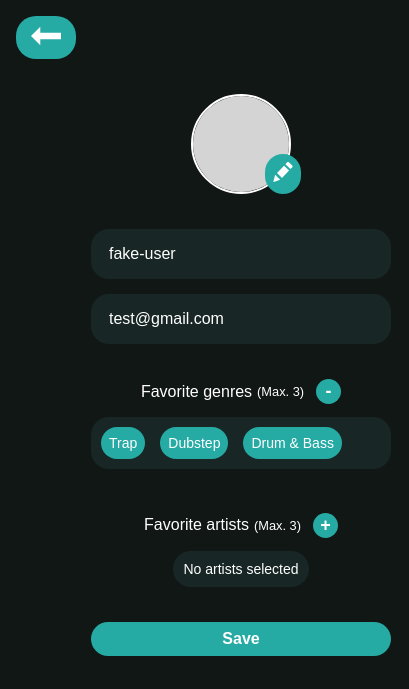
Test case: EditProfileComponent › Affichage de la page d'édition du profil › Saisie dans le formulaire › devrait afficher une erreur lors de la saisie  dans le champs
This screenshot has width=409, height=689.
Clear the field with test id "edit-profile-input-username" at (241, 254), box [91,229,391,279]
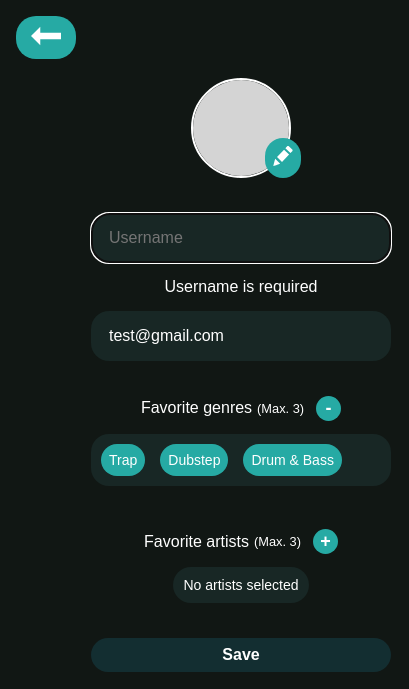
Check: the text "Username is required" is shown, box [164,278,318,296]
Check: the text with test id "edit-profile-error-text-username" reads "Username is required", box [164,278,318,295]
